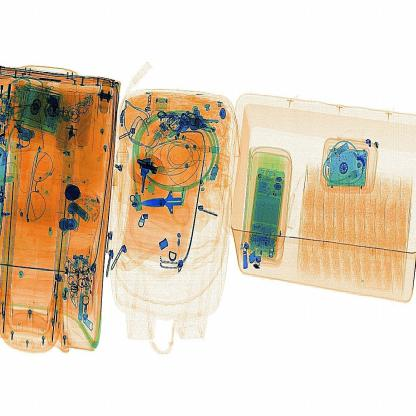gun: (140, 175, 201, 234)
